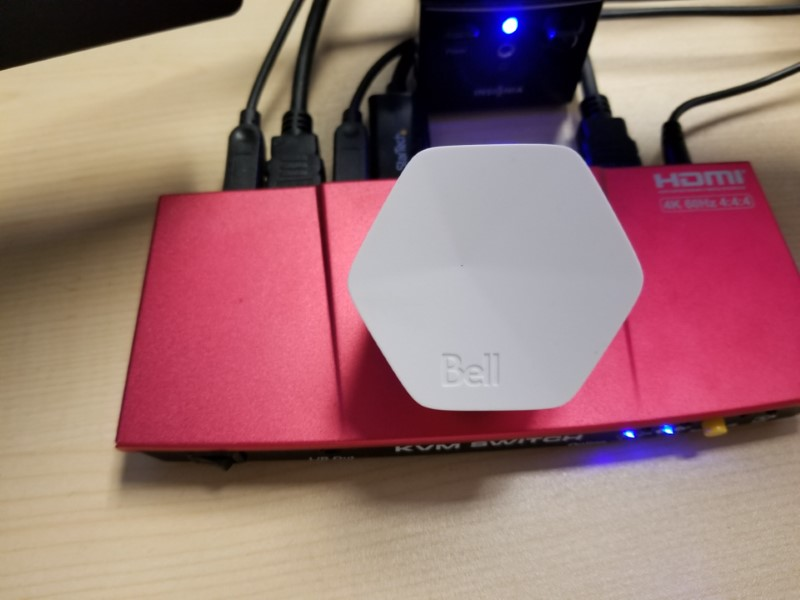pod: (344, 142, 656, 414)
